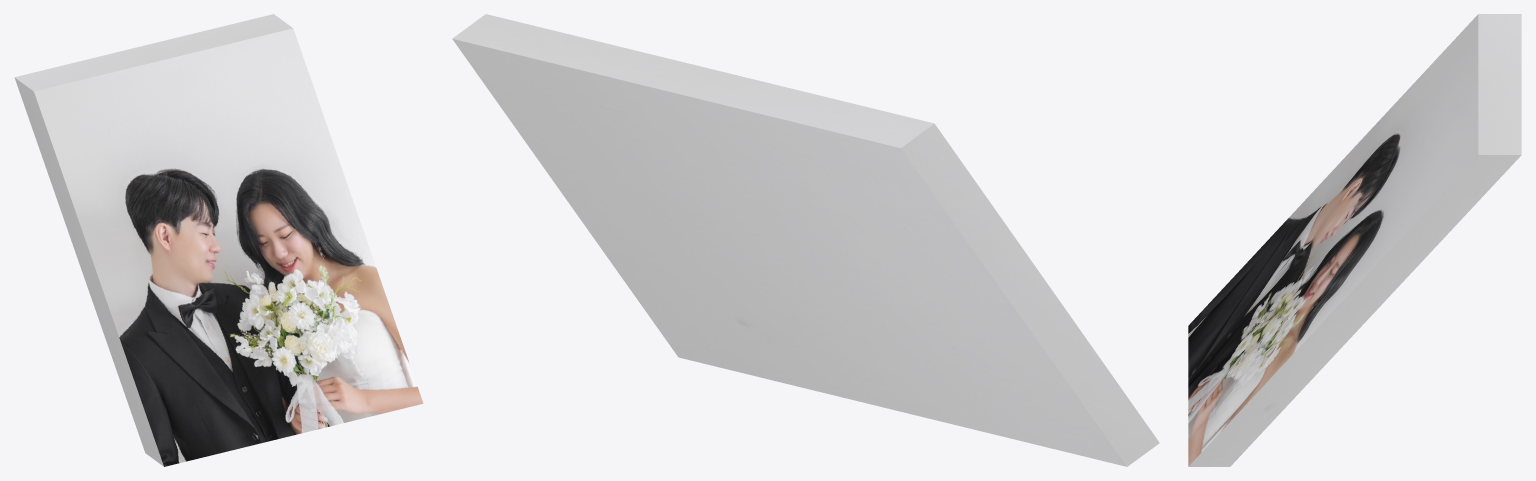
3 renders of one model, left to right at view 1: azimuth 30°, elevation 25°; view 2: azimuth 150°, elevation 25°; view 3: azimuth 270°, elevation 25°, orthographic. The views are drawn at different scales.
Parts seen in each view (by area): view 1: Cube; view 2: Cube; view 3: Cube.
Part boxes in pixels (bbox=[...]): Cube: bbox=[14, 14, 423, 466]; Cube: bbox=[452, 14, 1159, 466]; Cube: bbox=[1188, 14, 1521, 466].
Bounding box in the file's own units: 2 × 2.06 × 2.
1 material, 1 textured.
